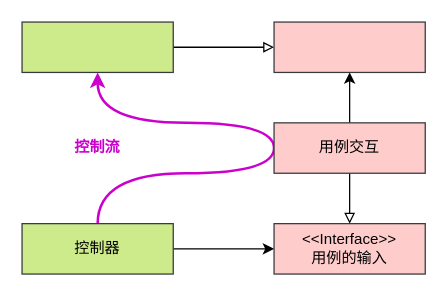
Image size: 447x296. Some labels were removed from this diagram. The shapes that lost their labels are listed below. From the top down, each one's centre as x and y in pixels, then its label:
At (97,46): "展示器".
At (349,46): "<<Interface>> 用例的输出".
